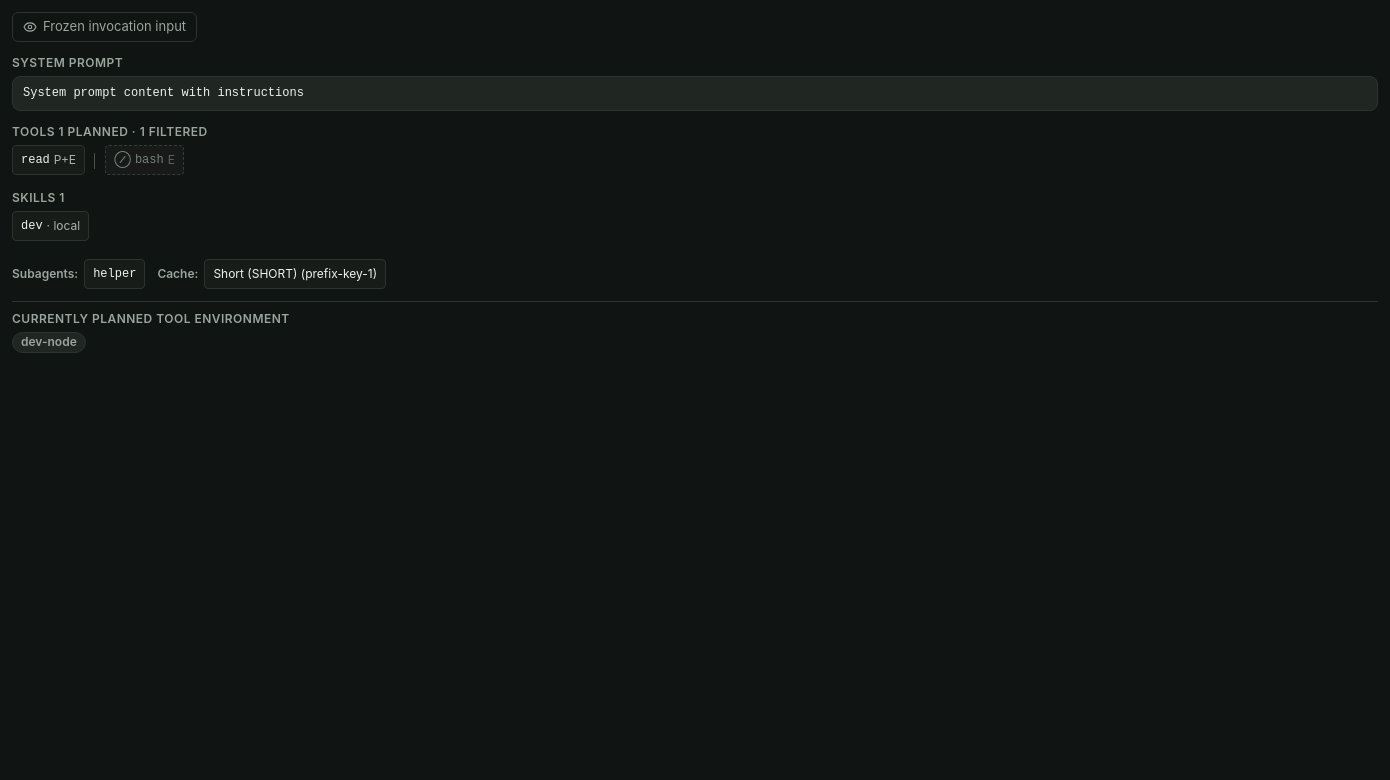
ThreadModelRequestDebug & Inspector › switches dynamically to en-US and verifies real english localization across all labels and badges
Expected: the text "Currently planned tool environment" is shown, [12,310,290,328]
Expected: the text "TOOLS 1 planned · 1 filtered" is shown, [12,123,208,141]
Note: 打开 Tool 检查器，断言英文标题与行标题
Click the button with aria-label "Tool read".
click(49, 160)  # box [12,145,85,175]
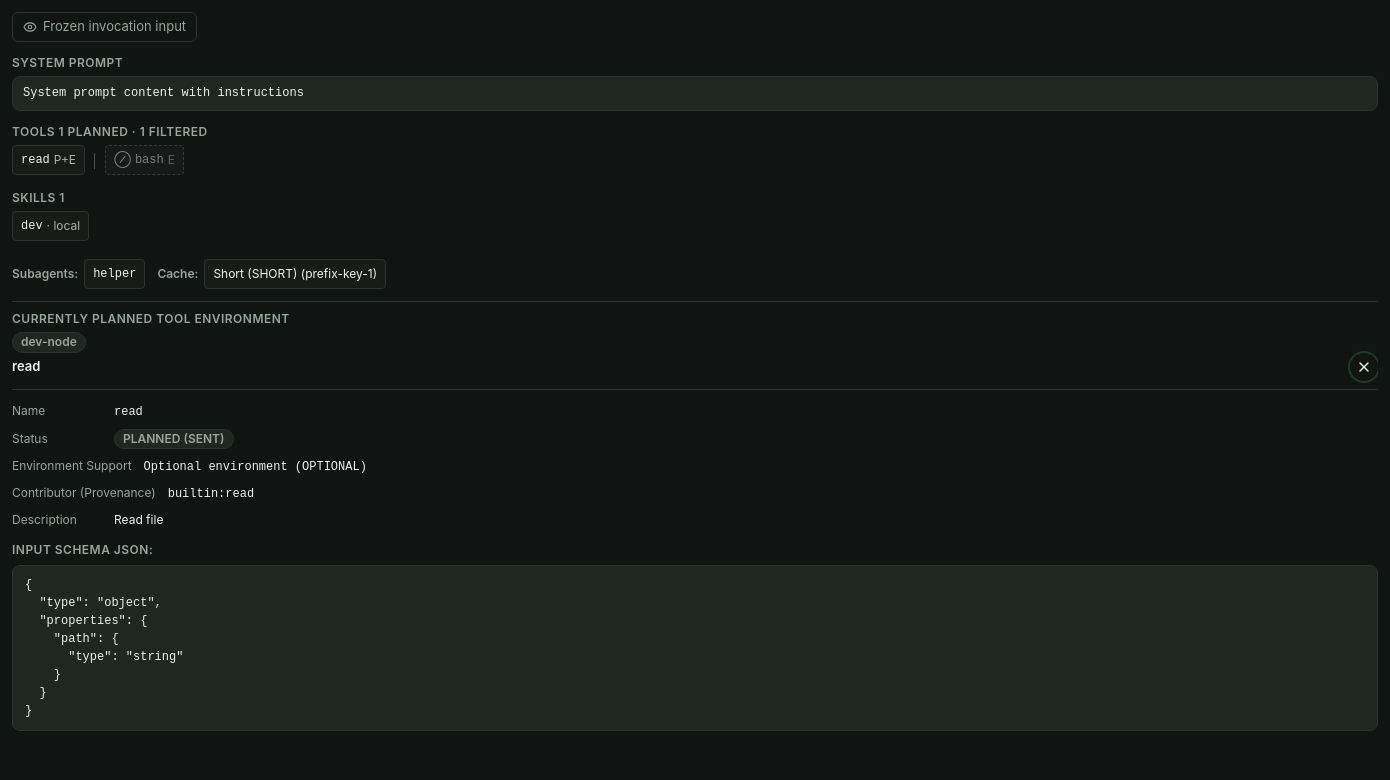
Expected: the heading "read" is shown, [12,357,40,376]
Expected: the text "Name" is shown, [12,403,45,418]
Expected: the text "Status" is shown, [12,431,48,446]
Click the button named "Close inspector".
click(1364, 367)  # box [1350,353,1378,381]
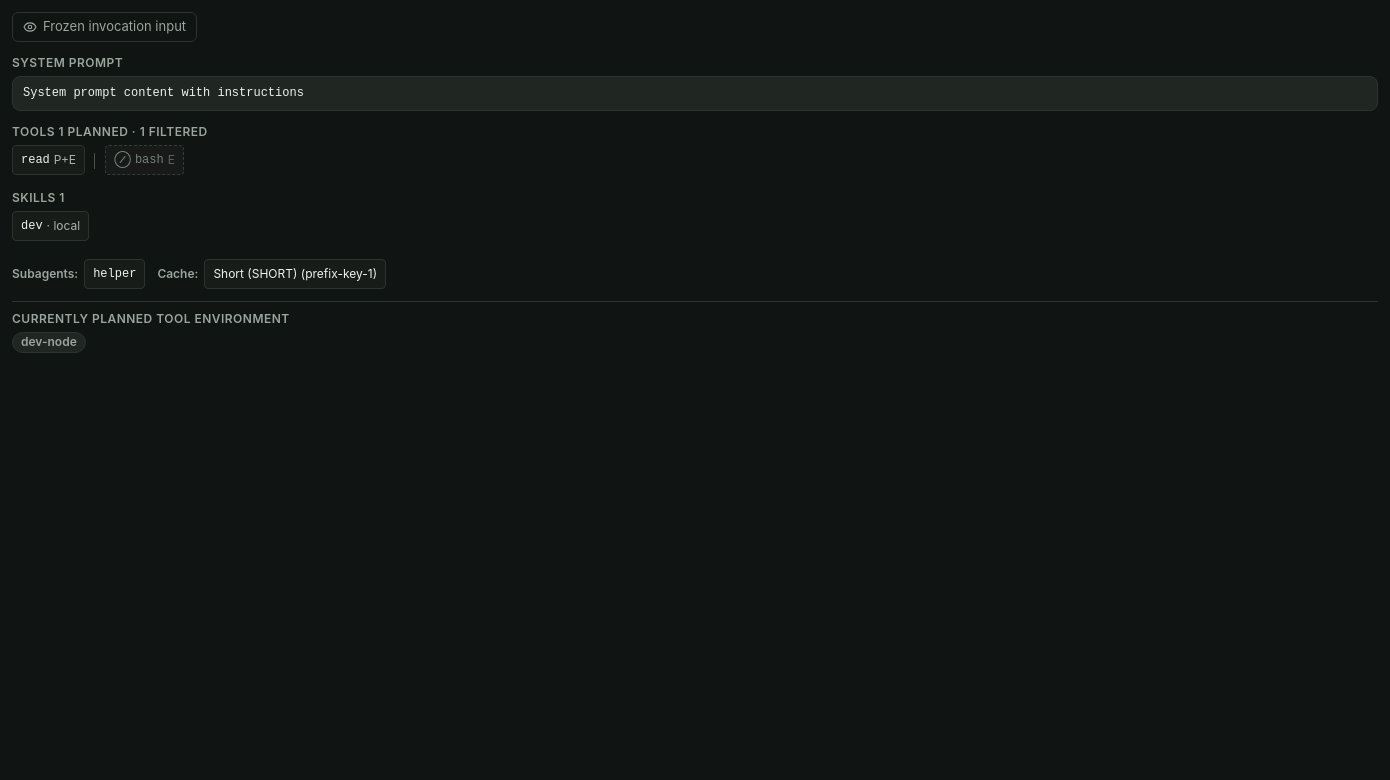
Expected: the element with test id "thread-debug-inspector" is gone
